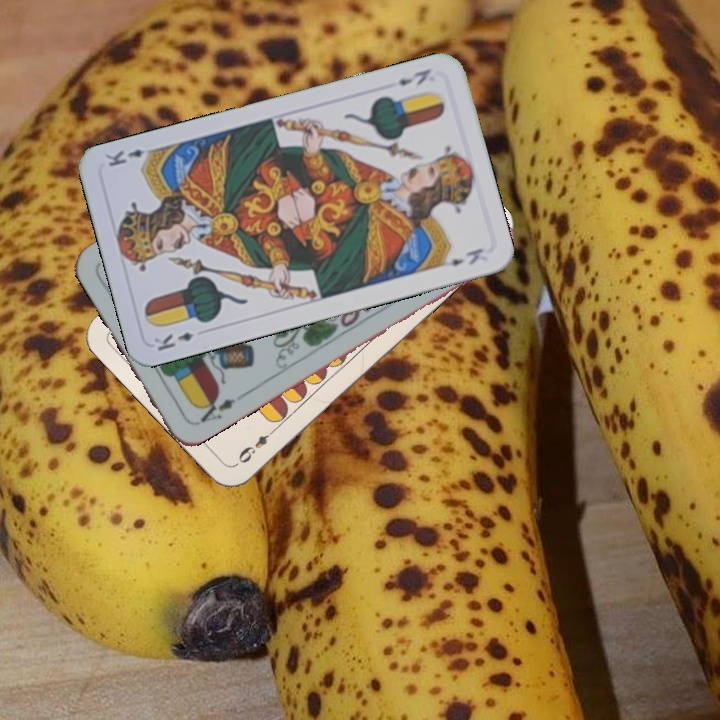E9: (234, 423, 280, 467)
EA: (192, 392, 238, 428)
EK: (150, 327, 197, 354), (394, 64, 434, 88)
